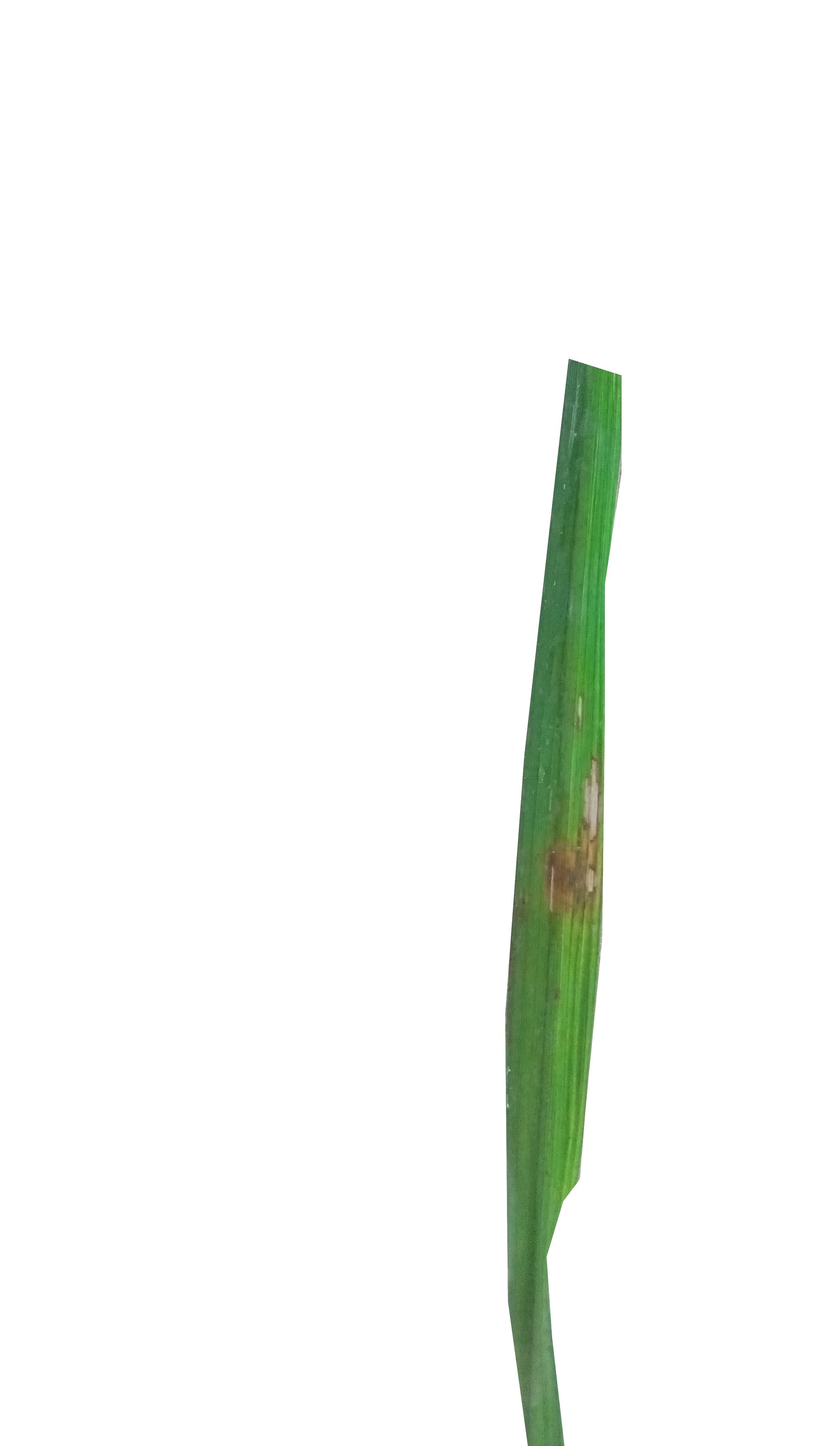Rice blast: (539, 793, 615, 921)
